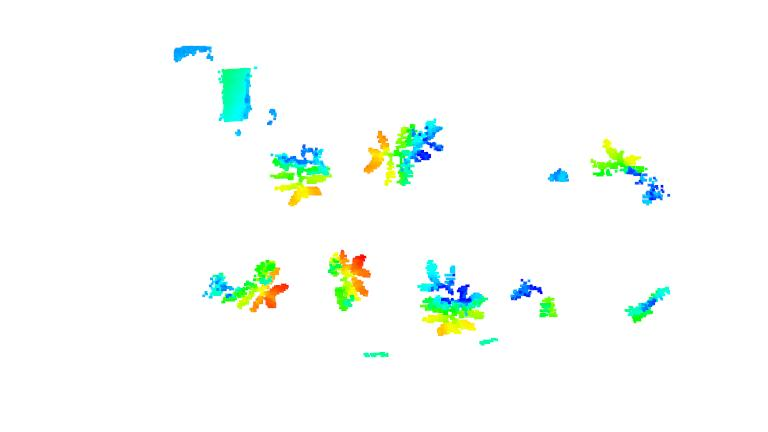chickpea: (414, 257, 488, 339), (366, 119, 446, 188), (205, 256, 289, 311), (268, 142, 333, 206), (325, 249, 372, 313), (587, 139, 648, 181), (511, 279, 558, 318), (624, 288, 676, 322)
